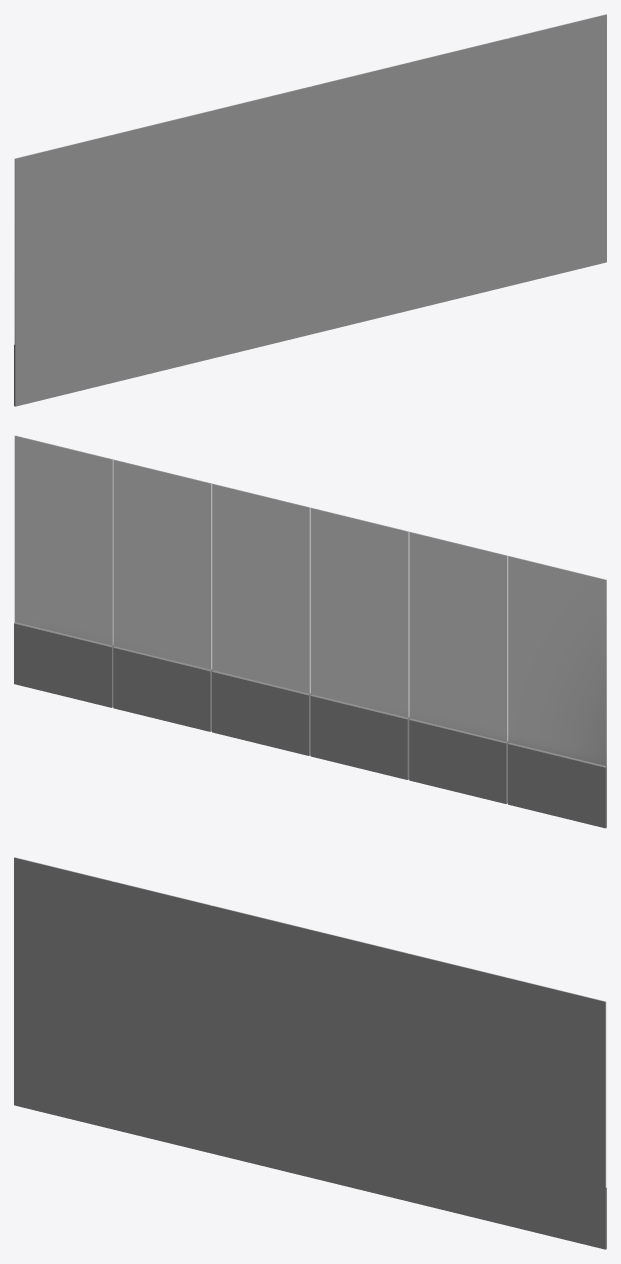
3 renders of one model, top to bottom at view 1: azimuth 30°, elevation 25°; view 2: azimuth 150°, elevation 25°; view 3: azimuth 330°, elevation 25°, orthographic.
Visible parts, largest first — view 1: small_room_wall_long; view 2: small_room_wall_long; view 3: small_room_wall_long.
Boxes of the visible parts, <box> form: small_room_wall_long: <box>14,14,606,406</box>; small_room_wall_long: <box>14,435,606,828</box>; small_room_wall_long: <box>14,857,606,1249</box>.
Size of the model in its own units: 1500 by 600 by 5.48.
